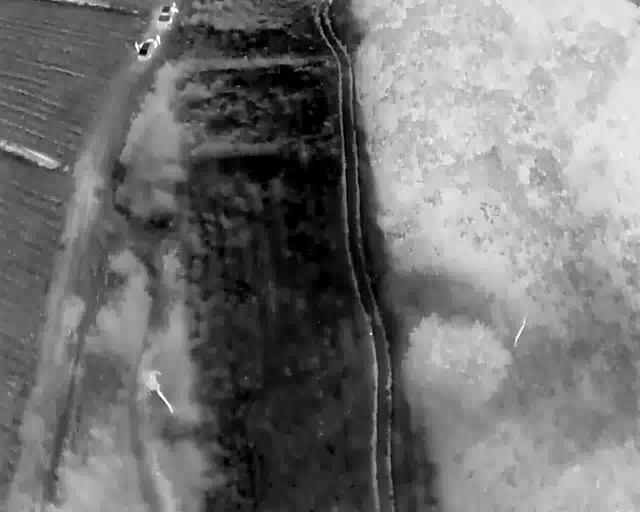car: (156, 4, 178, 26), (138, 38, 157, 60)
person: (134, 41, 139, 51), (156, 34, 160, 44), (172, 0, 175, 8)
